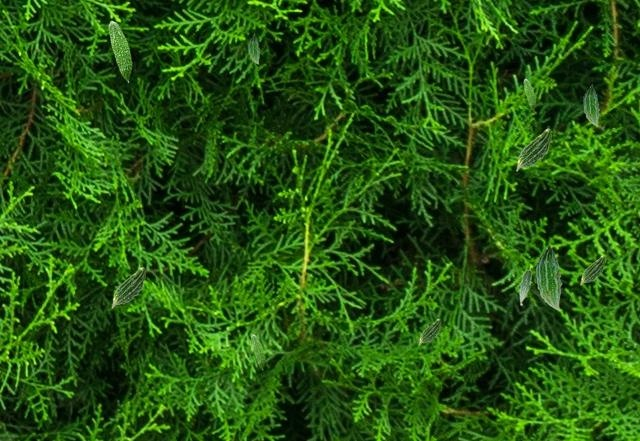ampalaya: (535, 243, 562, 311), (515, 128, 552, 171), (108, 20, 133, 83), (111, 266, 146, 308), (579, 255, 605, 285), (582, 84, 600, 127), (418, 318, 441, 345), (519, 266, 532, 306), (251, 334, 265, 370), (523, 78, 536, 111), (247, 33, 260, 64)
